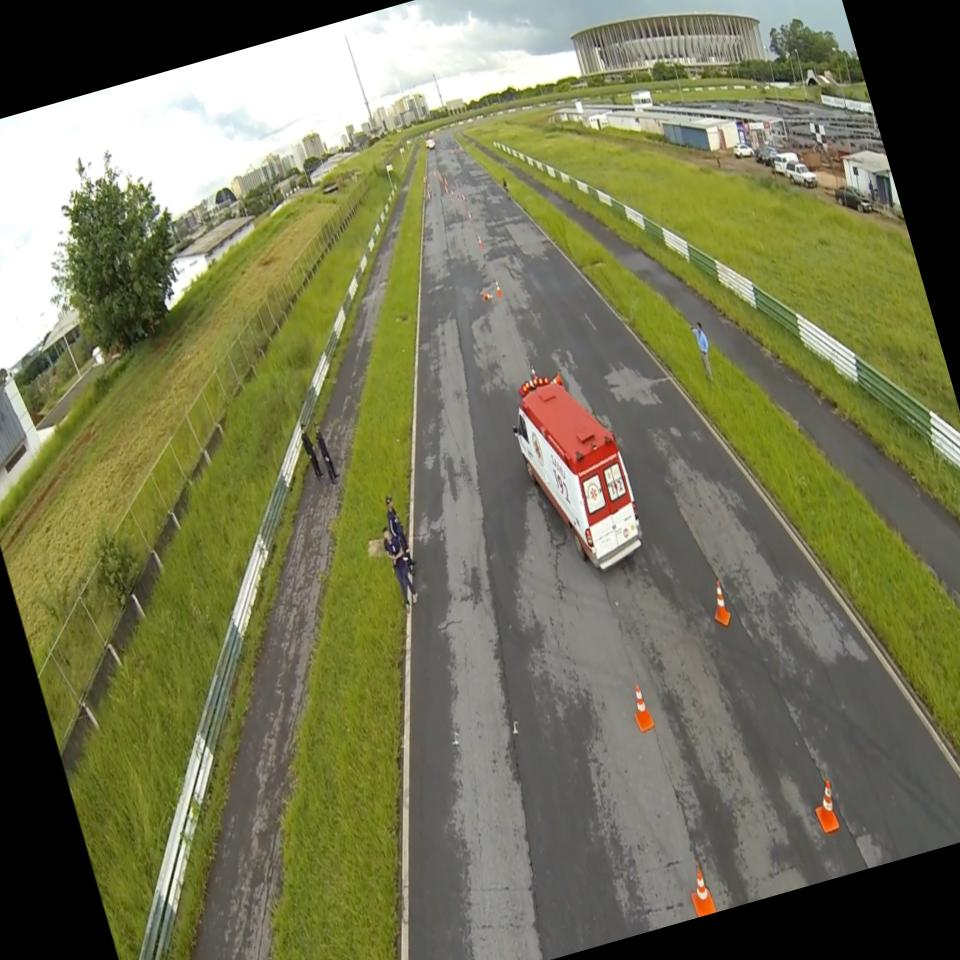bombeiro: (503, 370, 652, 583)
